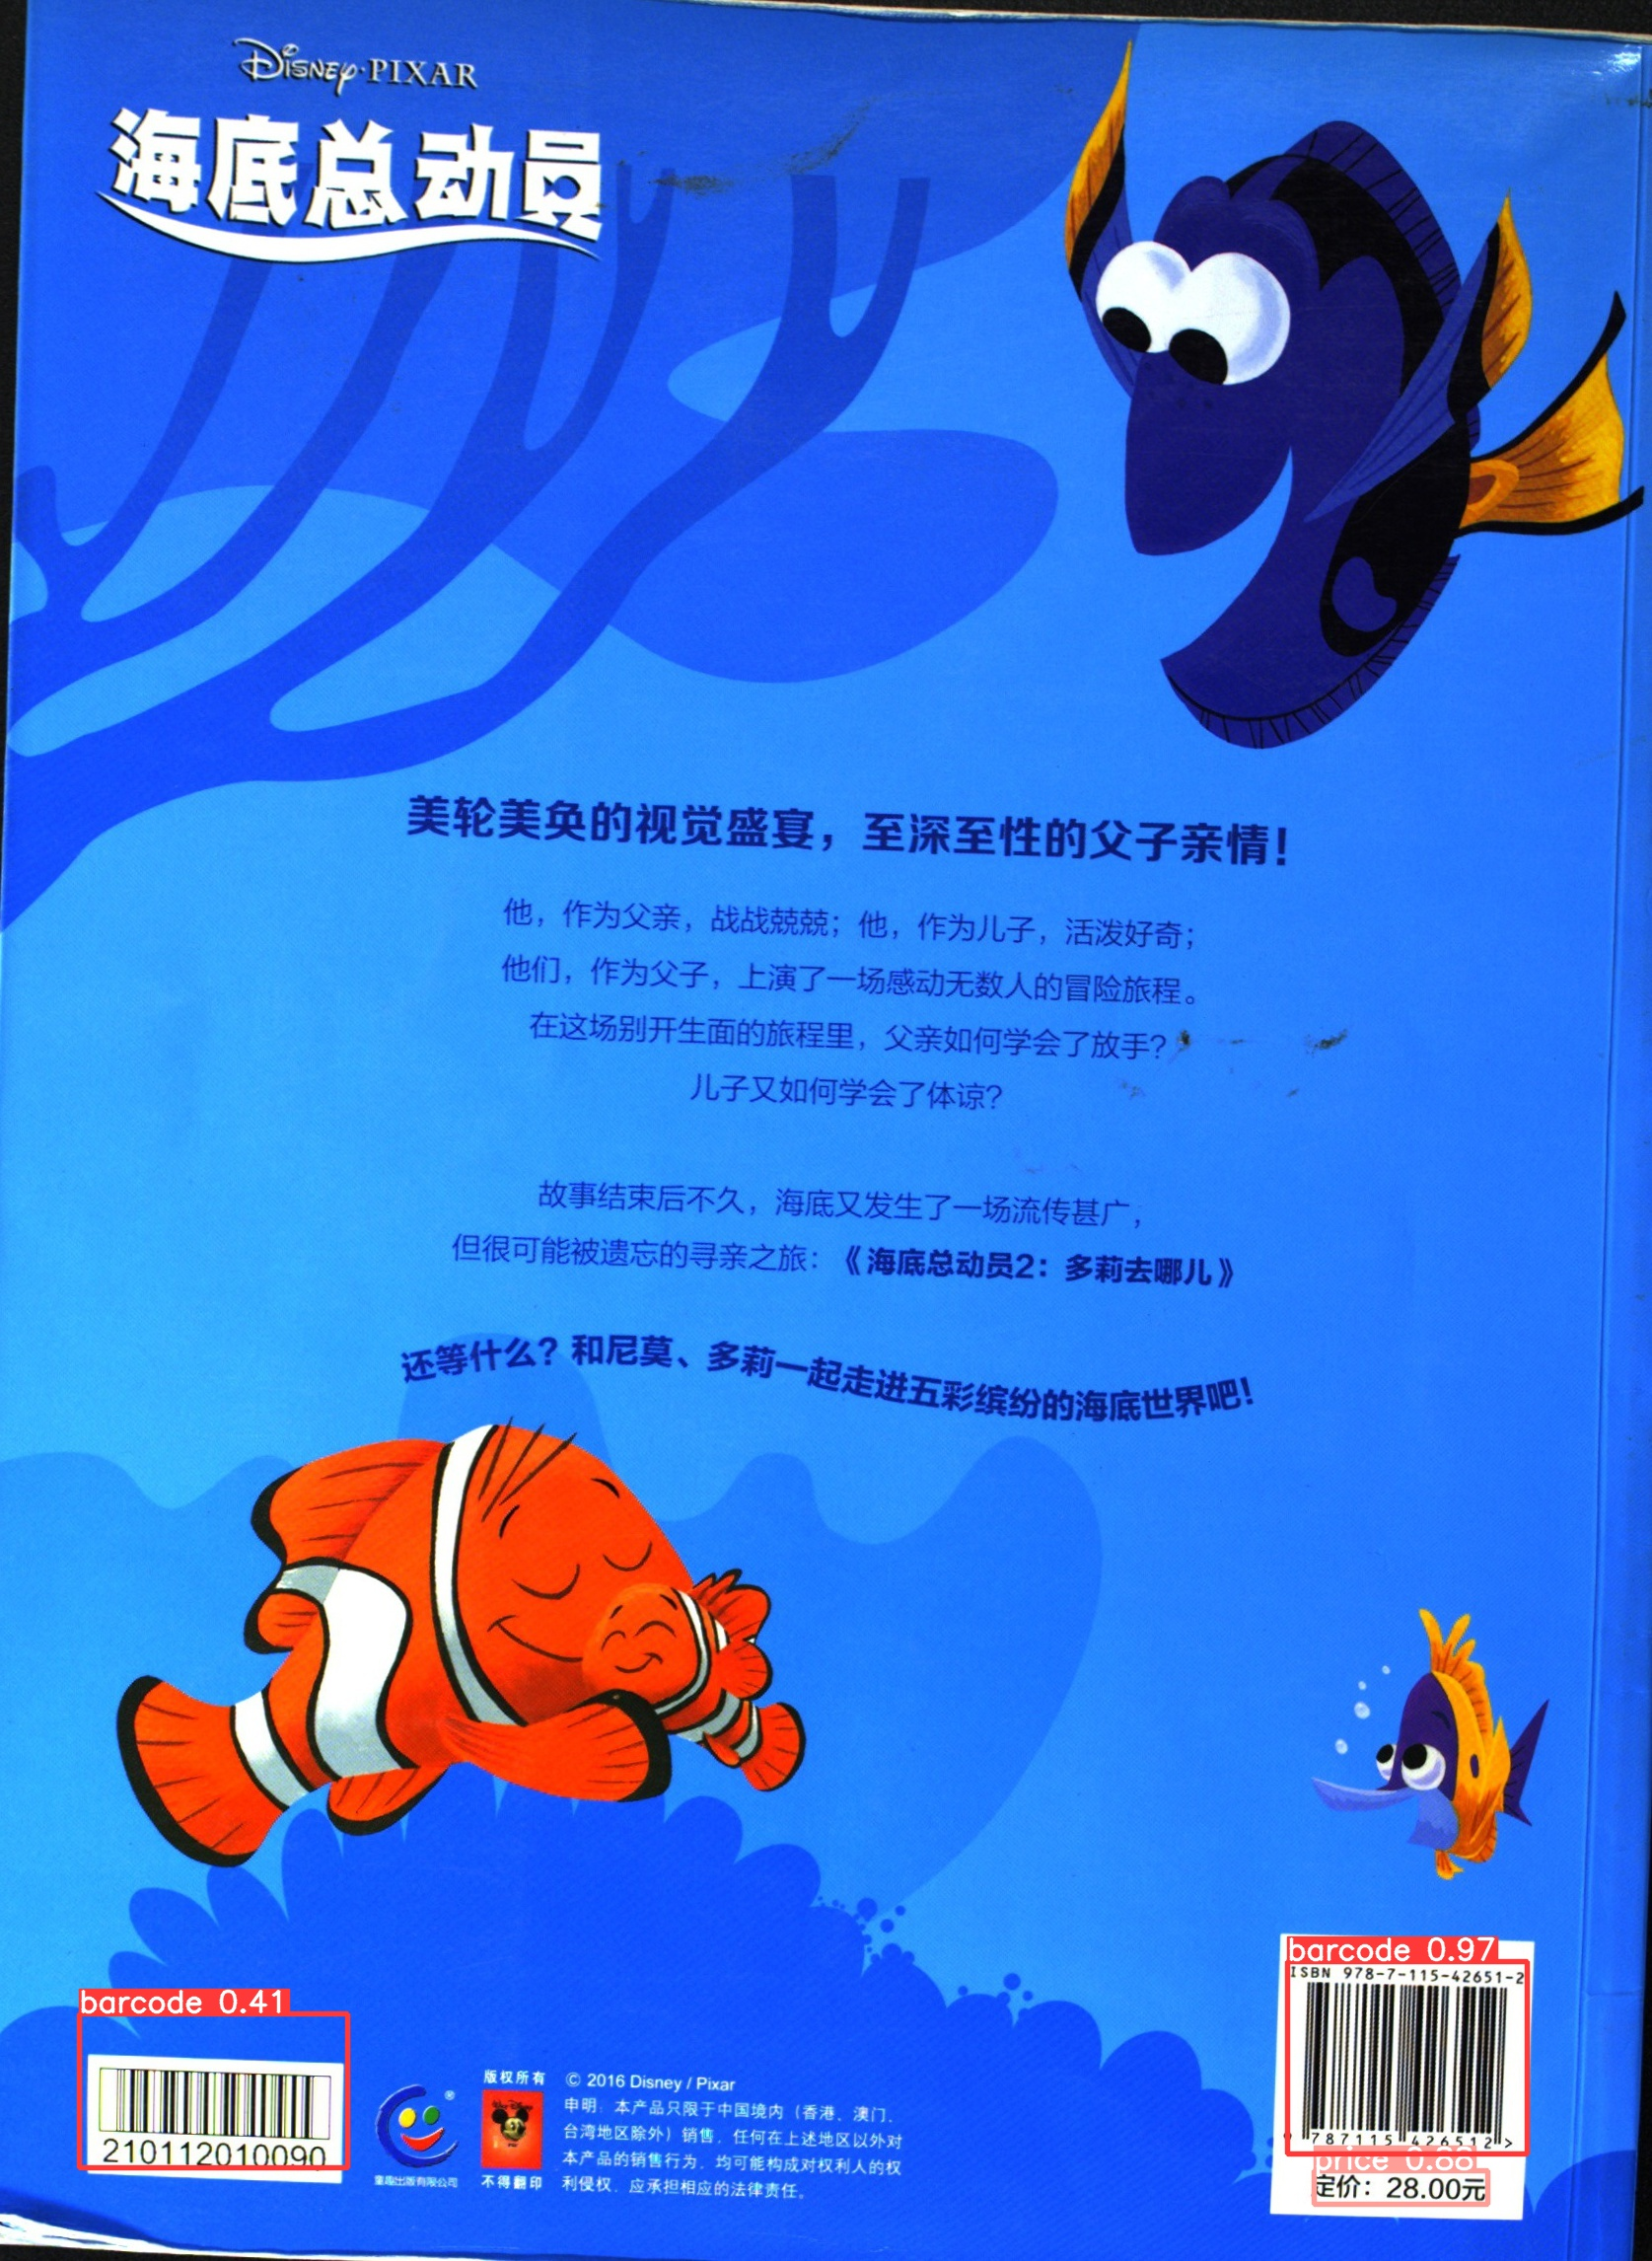barcode: (1278, 1927, 1529, 2210), (91, 2045, 344, 2182)
